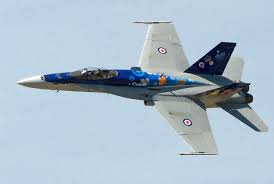fighter: (12, 19, 271, 158)
